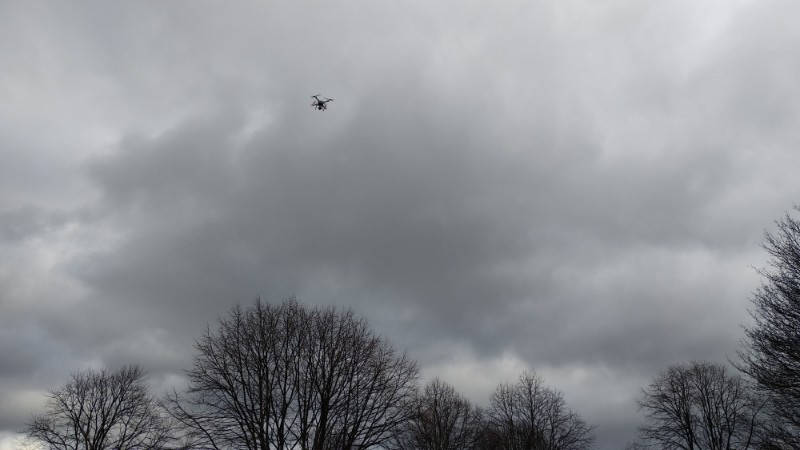drone: (311, 94, 335, 111)
